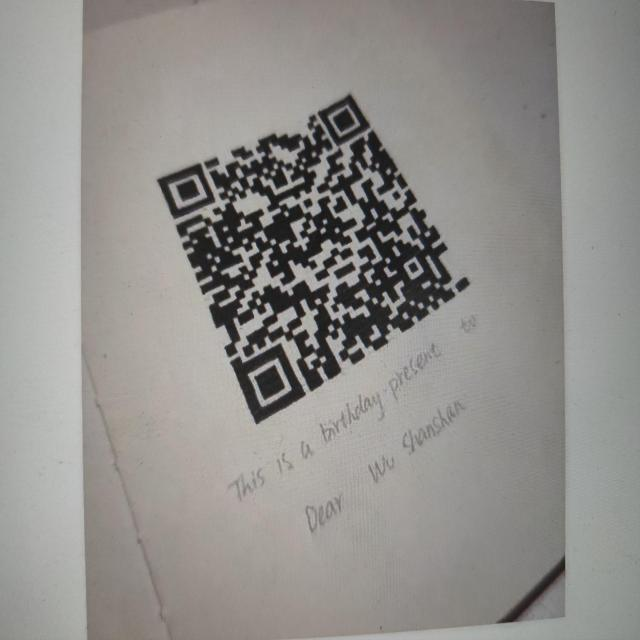qr_code: (158, 92, 472, 425)
